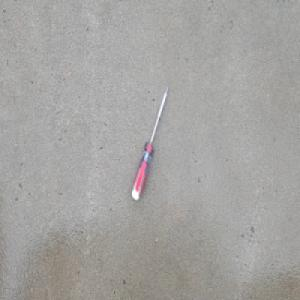Screwdriver: (130, 83, 169, 202)
